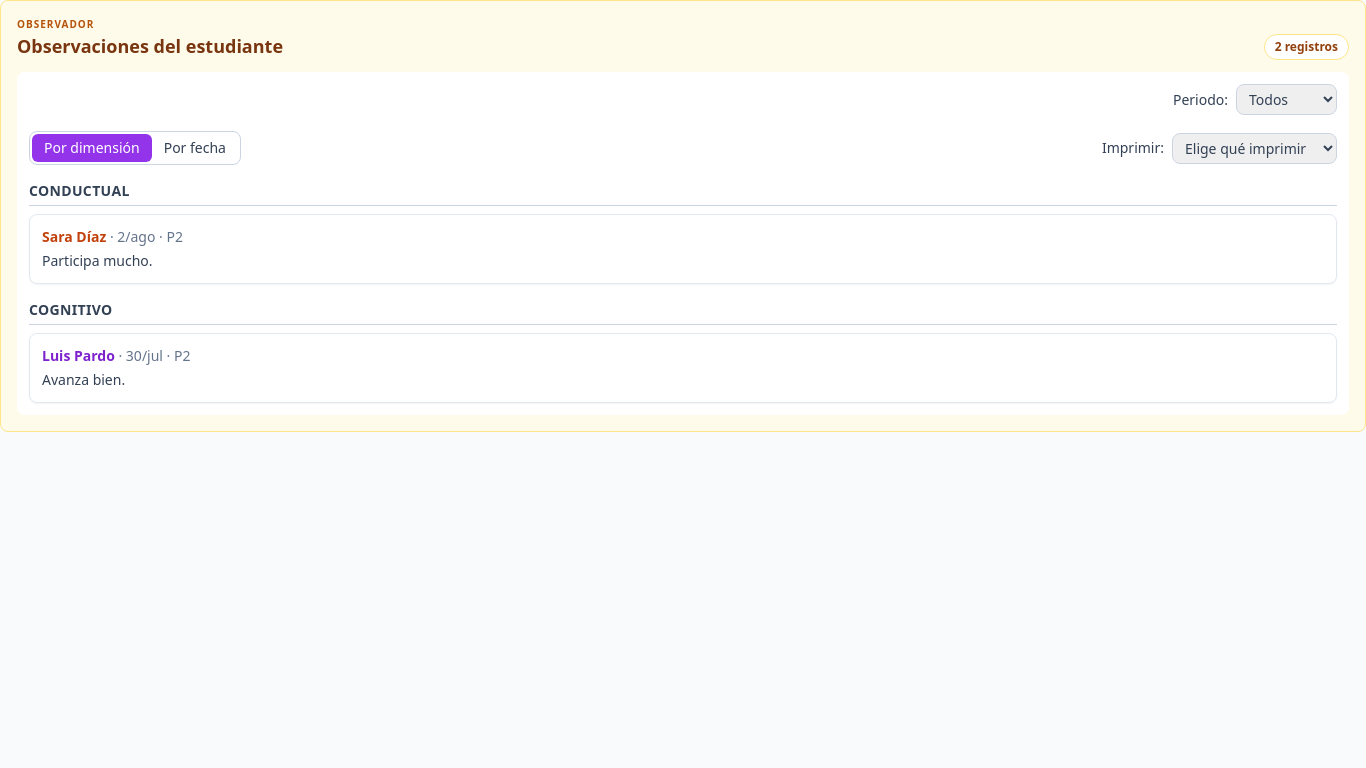
ObservadorEnFichaAdmin › al imprimir, la raya del director lleva su firma guardada y cada anotación firmada la del acudiente
The image size is (1366, 768).
Expected: the text "Participa mucho." is shown, [42,251,152,270]
Select "Todo el observador" in the dropdown labelled "Imprimir:". click: {"x": 1254, "y": 148}
box: [1172,132,1337,164]
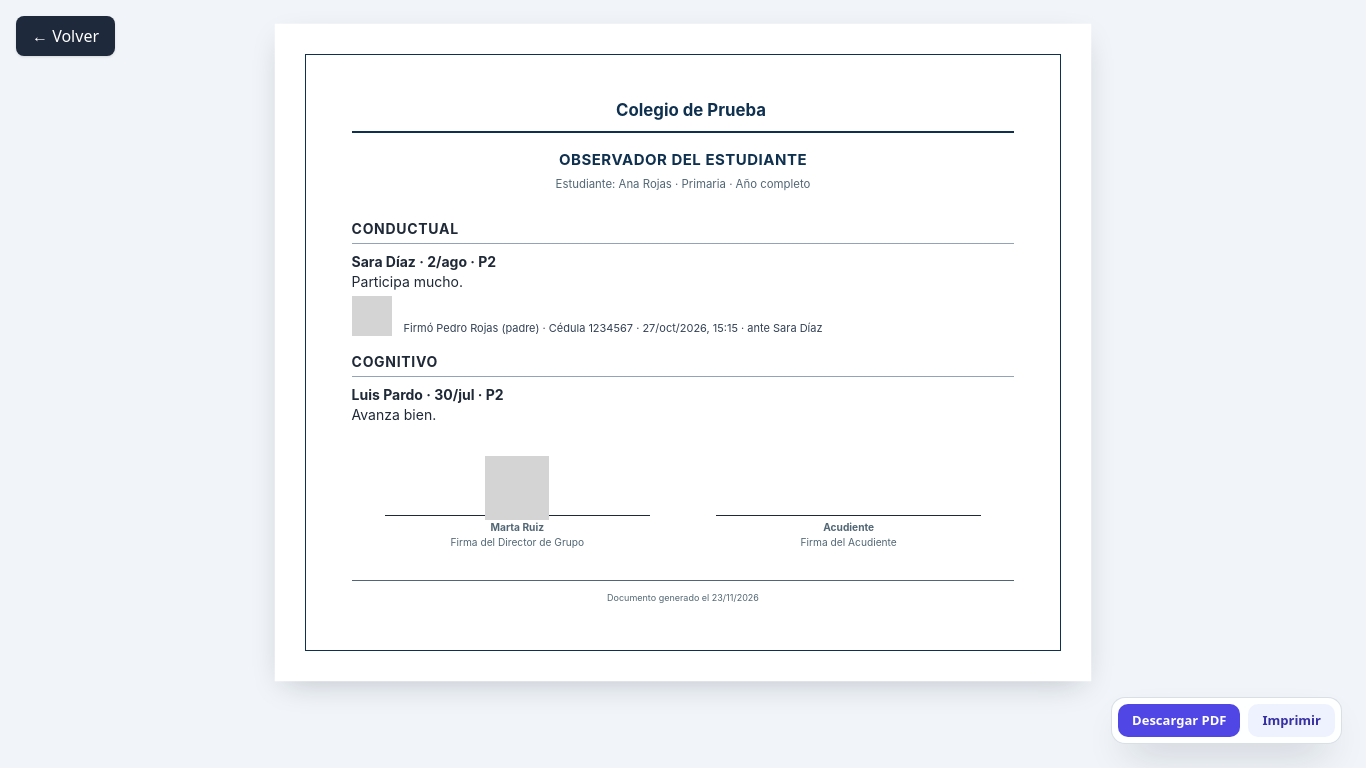
Result: the text "Marta Ruiz" is shown at [490,521,544,533]
